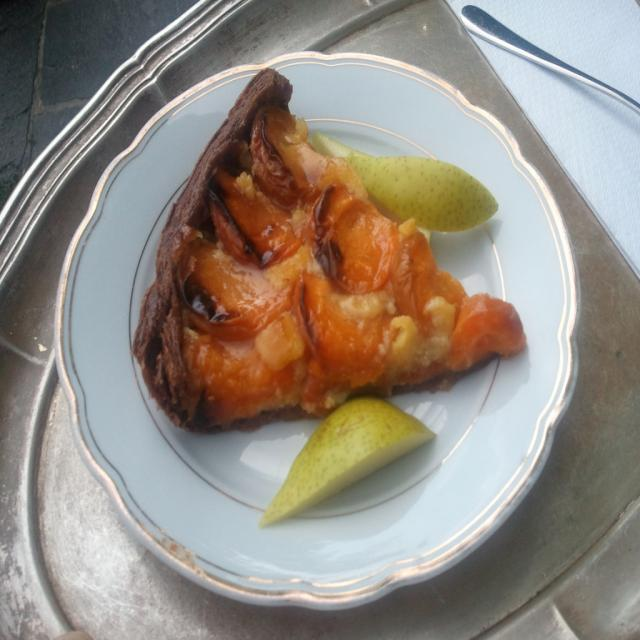Pear: (259, 397, 437, 527), (309, 132, 503, 236)
